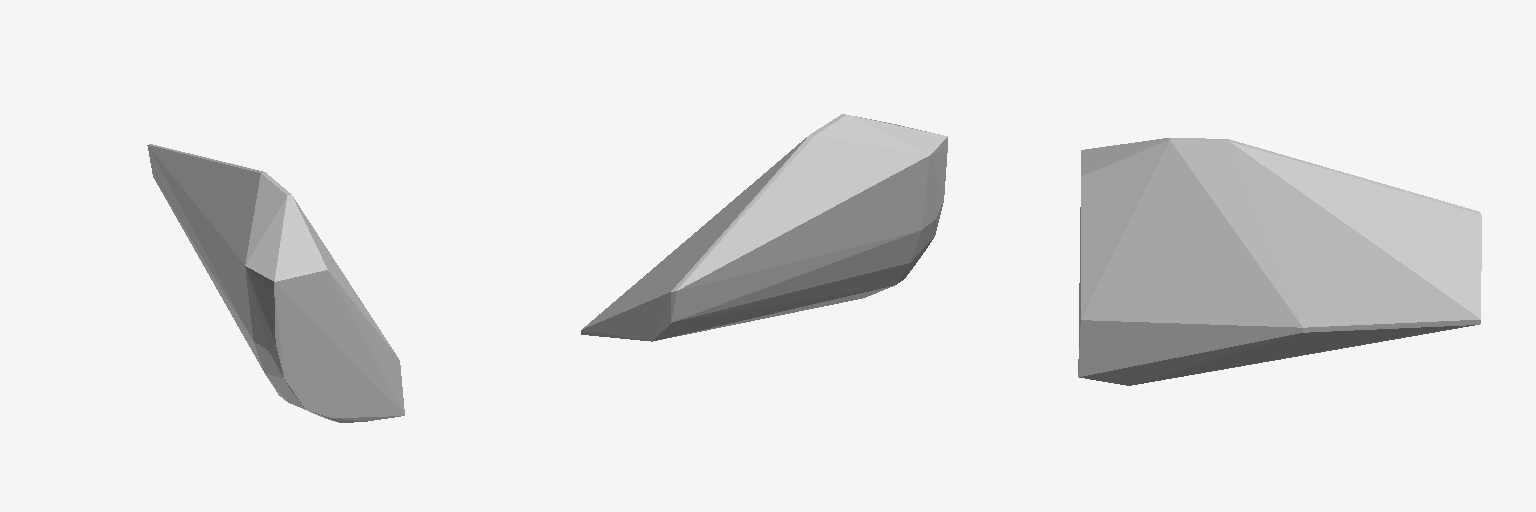
Rendered from ToteA.L007.obj.
The picture shows the model from 3 angles: view 1: azimuth 30°, elevation 25°; view 2: azimuth 150°, elevation 25°; view 3: azimuth 270°, elevation 25°; orthographic projection.
Bounding box in the file's own units: 0.0726 × 0.0857 × 0.1468.